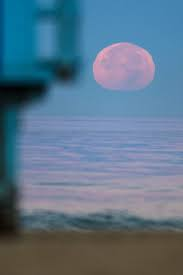moon: (90, 41, 156, 91)
